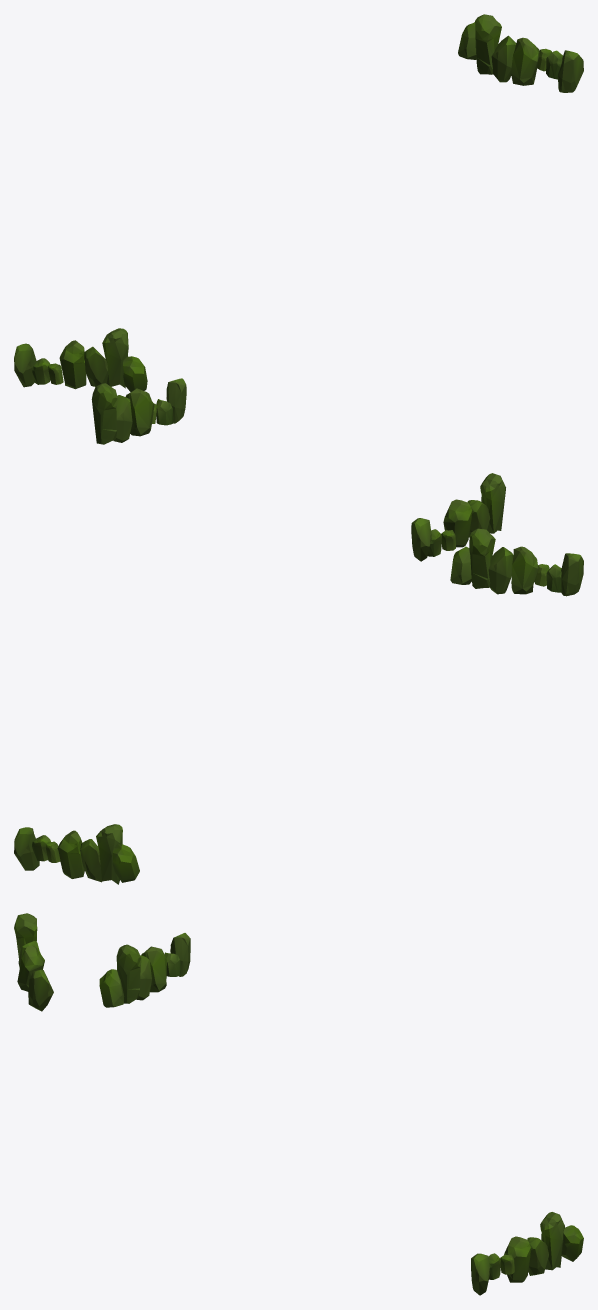
The model's file is RocasA.fbx.
The picture shows the model from 3 angles, top to bottom: view 1: azimuth 30°, elevation 25°; view 2: azimuth 210°, elevation 25°; view 3: azimuth 270°, elevation 25°; orthographic projection. The views are drawn at different scales.
Visible parts, largest first — view 1: Ground.002; view 2: Ground.002; view 3: Ground.002.
Boxes of the visible parts, x1,y1,x2,y2 form: Ground.002: (14,14,583,444); Ground.002: (14,473,583,884); Ground.002: (14,913,583,1295).
Bounding box in the file's own units: 32.62 × 3.06 × 23.02.
